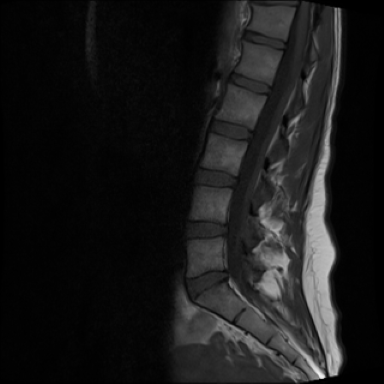Lumbar Disc Bulge (LDB): (178, 266, 232, 305)
Normal IVD: (225, 66, 276, 102), (205, 113, 256, 145), (237, 25, 291, 55), (187, 162, 241, 192), (182, 216, 233, 243)
